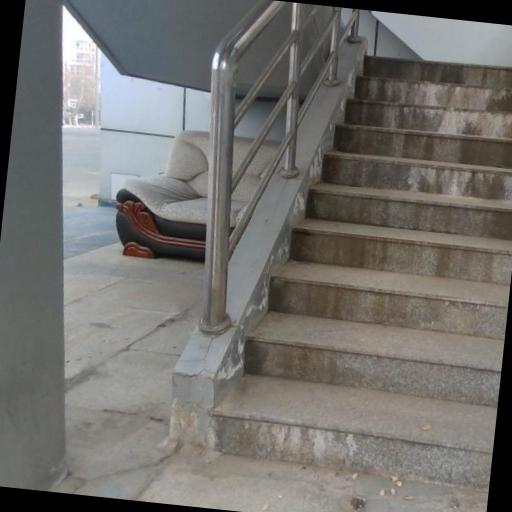stairs: (210, 58, 511, 488)
